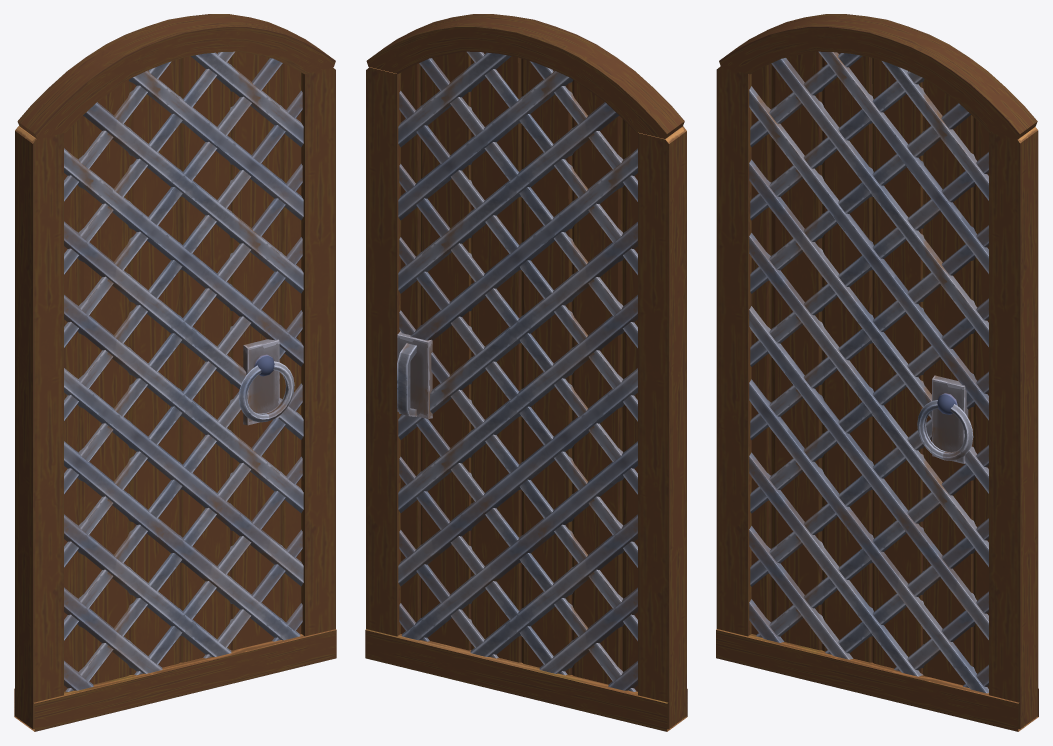
The model's file is Door_4_Round.gltf.
3 views of the same model, side by side, from view 1: azimuth 30°, elevation 25°; view 2: azimuth 150°, elevation 25°; view 3: azimuth 330°, elevation 25° (orthographic).
Visible parts, largest first — view 1: Door_4_Round; view 2: Door_4_Round; view 3: Door_4_Round.
Boxes of the visible parts, box(x1,y1,x2,y2) form: Door_4_Round: box(14, 14, 336, 731); Door_4_Round: box(365, 14, 687, 731); Door_4_Round: box(716, 14, 1038, 731).
Bounding box in the file's own units: 1.11 × 2.32 × 0.2093.
2 materials, 2 textured.
